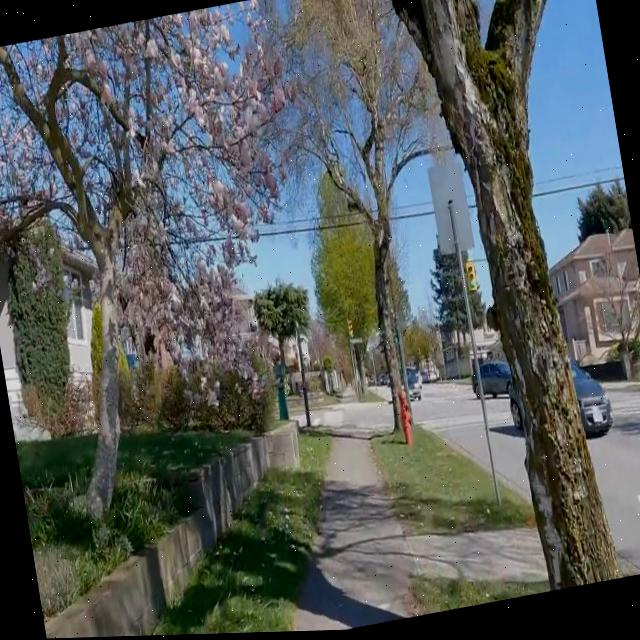Obstacle: (390, 0, 620, 593), (0, 0, 287, 306), (45, 426, 297, 639), (311, 0, 417, 395), (151, 474, 322, 636), (371, 429, 534, 537), (87, 248, 120, 515), (410, 577, 547, 617), (298, 432, 332, 474), (297, 331, 311, 428), (397, 389, 410, 447), (387, 374, 398, 433)
Road: (589, 387, 640, 560), (412, 384, 489, 471), (484, 401, 528, 503), (336, 403, 390, 432), (323, 412, 343, 429)
Sidewalk: (303, 440, 544, 633), (342, 387, 352, 399)
